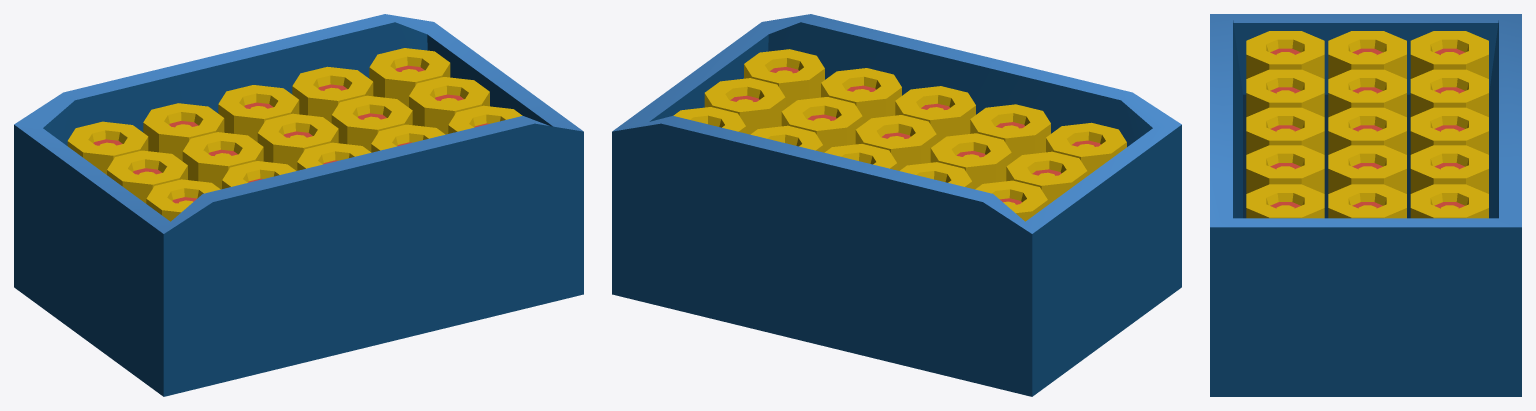
Rendered from Machinegun_Ammo.fbx.
The picture shows the model from 3 angles, left to right: view 1: azimuth 30°, elevation 25°; view 2: azimuth 150°, elevation 25°; view 3: azimuth 270°, elevation 25°; orthographic projection. The views are drawn at different scales.
Parts seen in each view (by area): view 1: Machinegun_Ammo; view 2: Machinegun_Ammo; view 3: Machinegun_Ammo.
Boxes of the visible parts, box(x1,y1,x2,y2) form: Machinegun_Ammo: box(14, 14, 583, 396); Machinegun_Ammo: box(612, 14, 1181, 396); Machinegun_Ammo: box(1210, 14, 1521, 396).
Size of the model in its own units: 1.62 by 0.6736 by 1.
